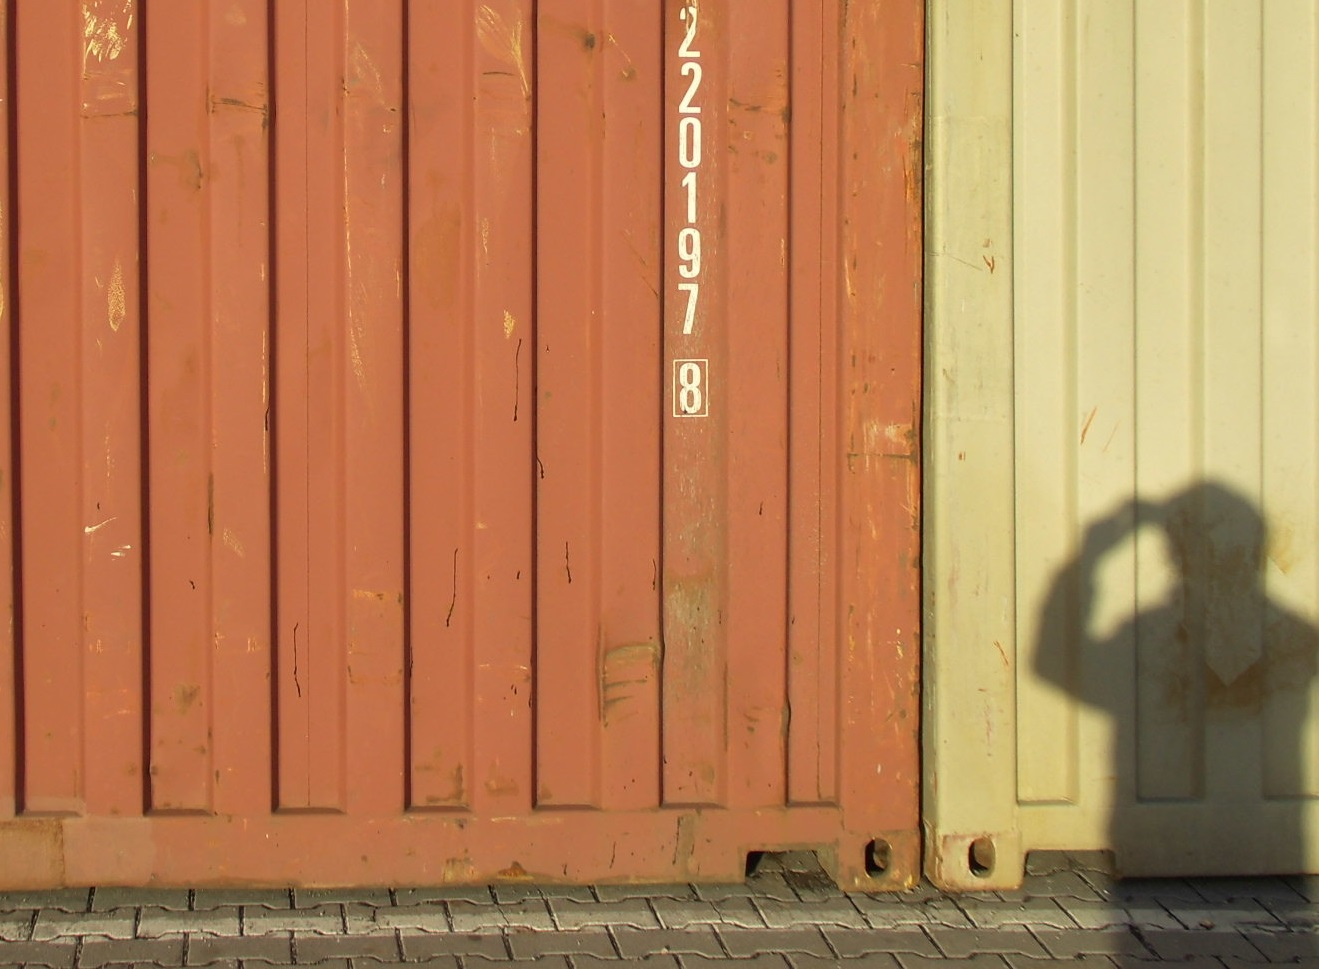container_no_door: (10, 3, 910, 895)
